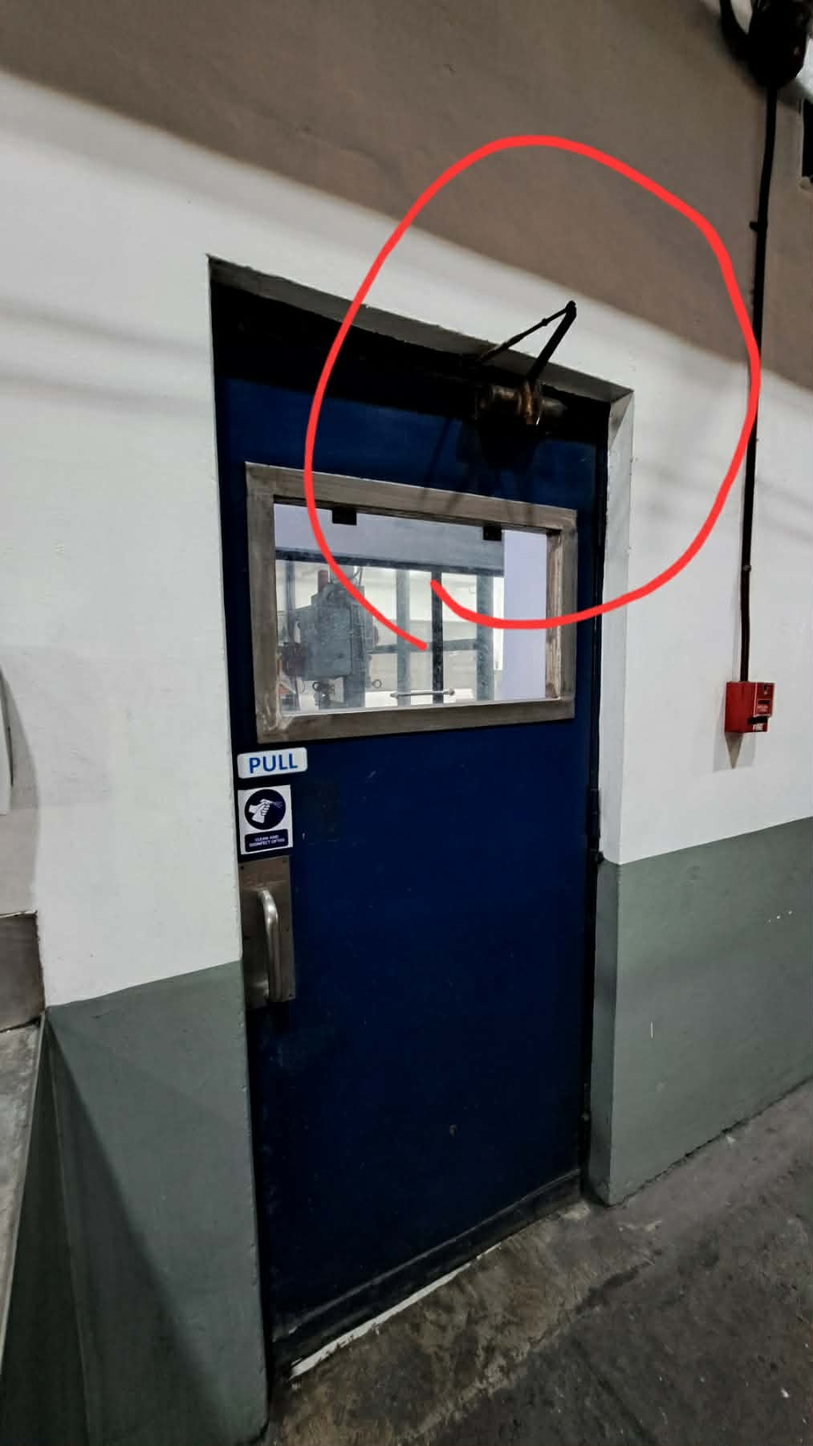forklift: (247, 121, 794, 1434)
